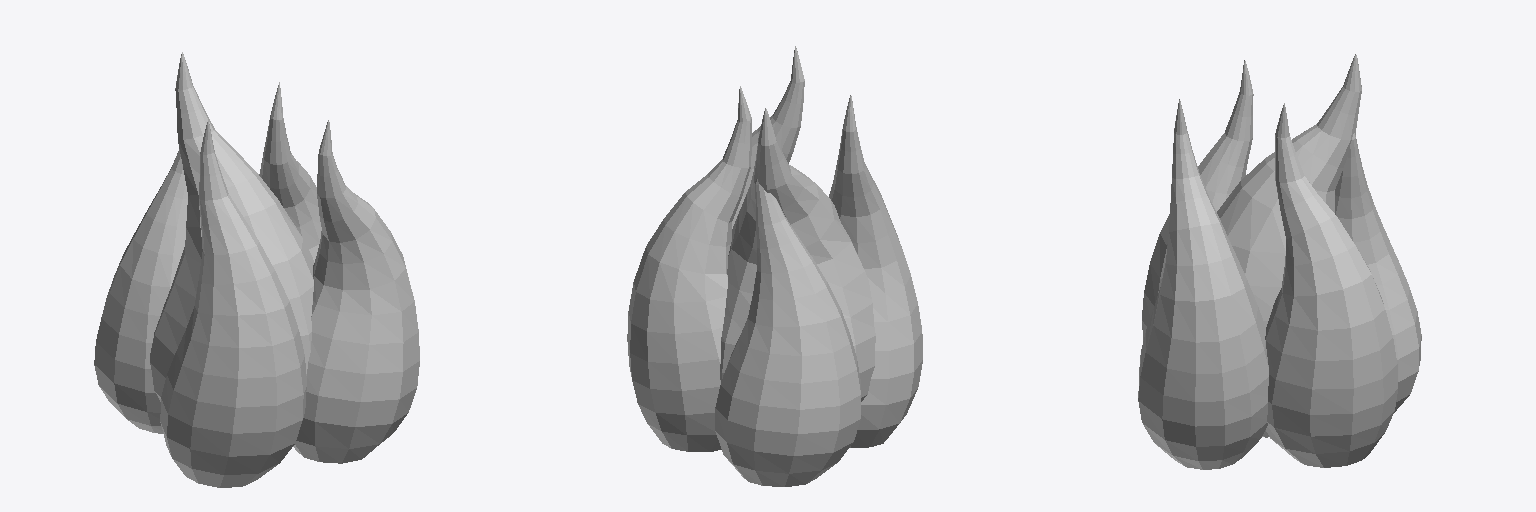
The model's file is fire_000060.obj.
3 renders of one model, left to right at view 1: azimuth 30°, elevation 25°; view 2: azimuth 150°, elevation 25°; view 3: azimuth 270°, elevation 25°, orthographic.
Visible parts, largest first — view 1: flame_NurbsPath.015; view 2: flame_NurbsPath.015; view 3: flame_NurbsPath.015.
Part boxes in pixels (x1,y1,x2,y2): flame_NurbsPath.015: (94, 52, 419, 487); flame_NurbsPath.015: (627, 46, 922, 486); flame_NurbsPath.015: (1138, 54, 1421, 469).
Bounding box in the file's own units: 0.7646 × 1.15 × 0.7989.